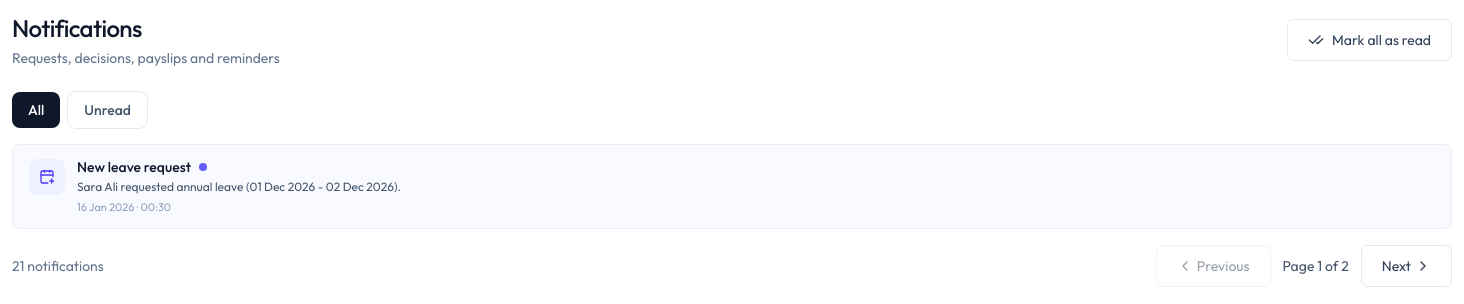
NotificationsView › moves between pages
Expected: the text "Page 1 of 2" is shown, [1282,256,1349,276]
Expected: the text "21 notifications" is shown, [12,256,104,276]
Click the button "Next": (1406, 266) [1361,244,1452,286]
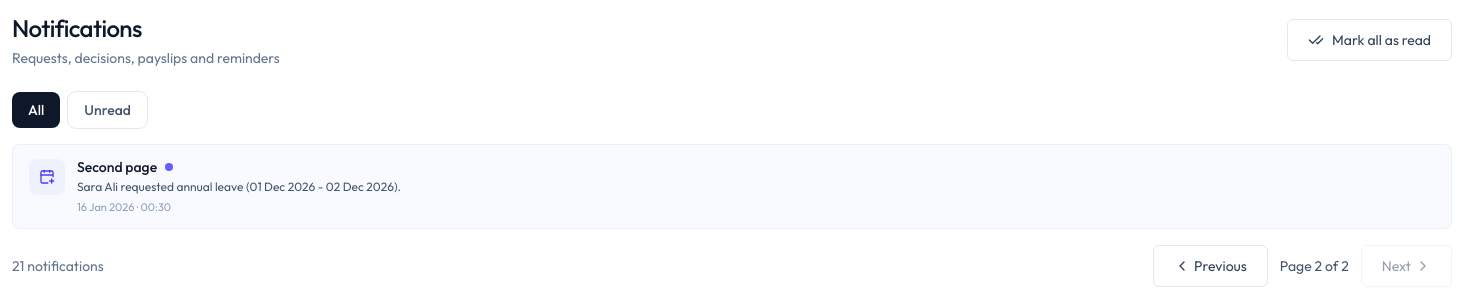
Now the text "Second page" is shown, box [77,157,157,177]
Now the text "Page 2 of 2" is shown, box [1280,256,1349,276]
